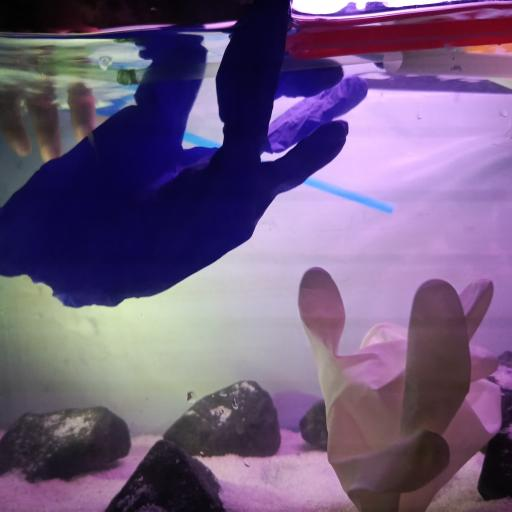glove: (0, 4, 361, 308), (298, 266, 504, 510)
plastic_straw: (185, 131, 392, 216), (286, 17, 512, 61), (36, 55, 380, 83), (382, 50, 512, 78), (360, 77, 510, 94)
